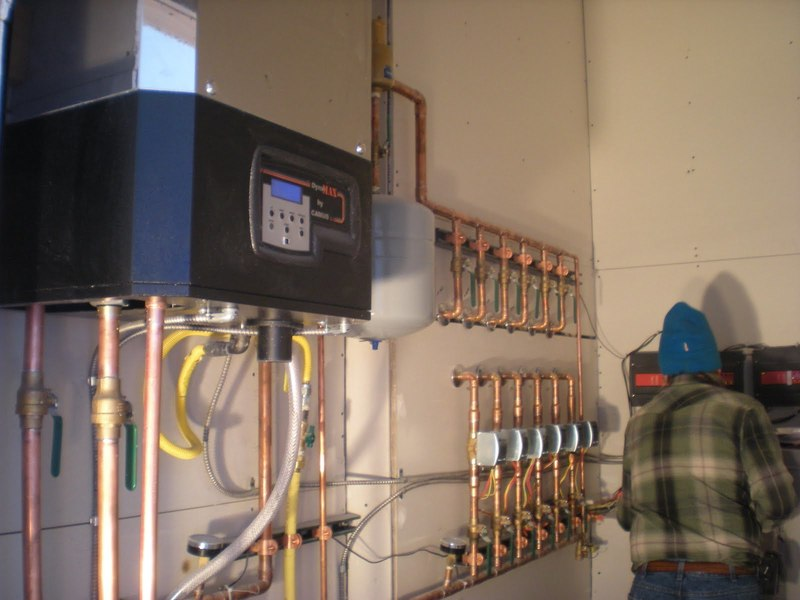valve: (86, 366, 145, 509), (16, 360, 66, 488), (444, 252, 481, 306), (535, 277, 569, 330), (471, 260, 503, 315), (512, 273, 546, 323), (495, 264, 522, 317), (552, 282, 579, 326)
